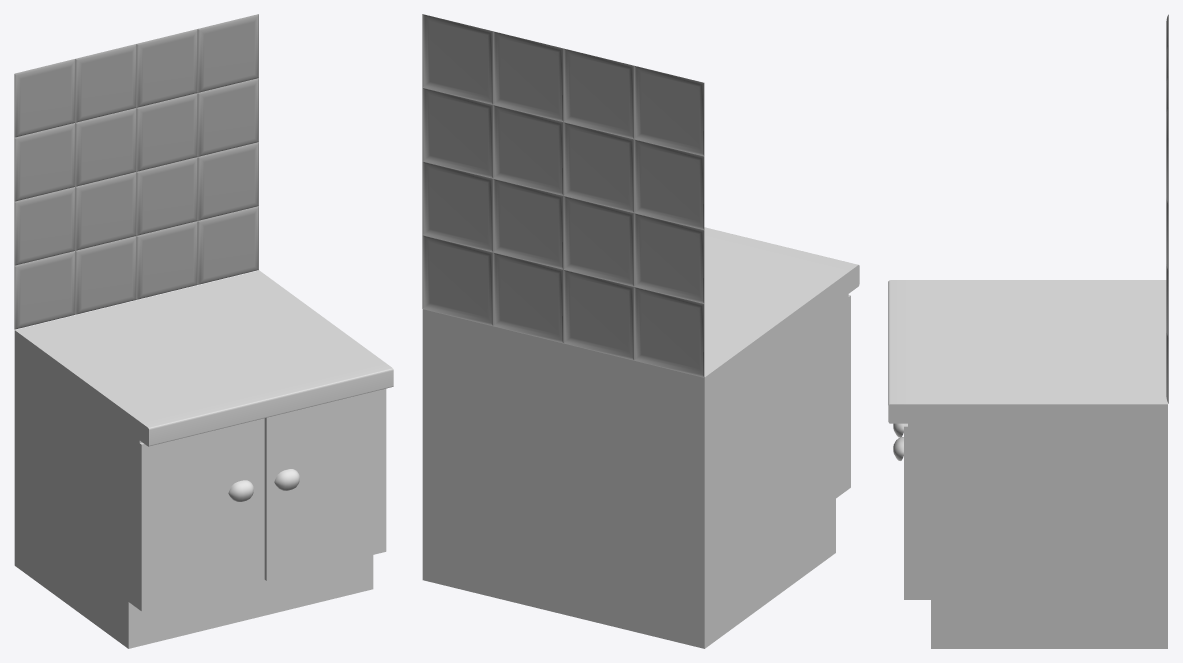
File: geo_counterWhole.fbx
3 renders of one model, left to right at view 1: azimuth 30°, elevation 25°; view 2: azimuth 150°, elevation 25°; view 3: azimuth 270°, elevation 25°, orthographic. The views are drawn at different scales.
Visible parts, largest first — view 1: geo_counterWhole; view 2: geo_counterWhole; view 3: geo_counterWhole.
Part boxes in pixels (box(x1,y1,x2,y2)): geo_counterWhole: box(14, 14, 393, 648); geo_counterWhole: box(422, 14, 859, 648); geo_counterWhole: box(888, 14, 1168, 648).
Bounding box in the file's own units: 1 × 1.92 × 0.9544.
